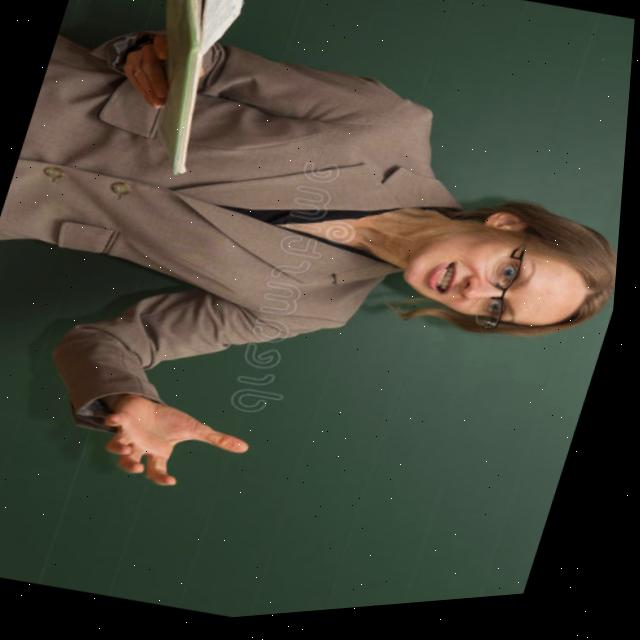angry: (367, 186, 627, 381)
